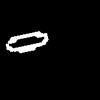chain: (6, 31, 47, 52)
